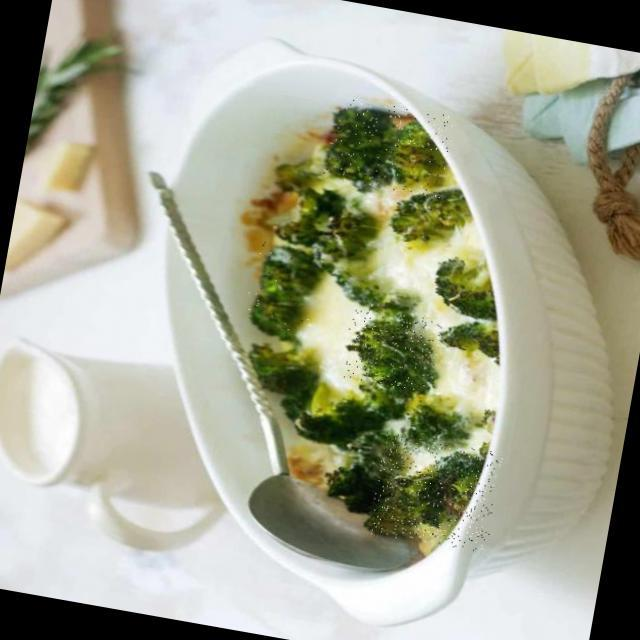Brocoli: (368, 431, 504, 552), (323, 95, 454, 197), (340, 305, 442, 394), (240, 237, 320, 336)
